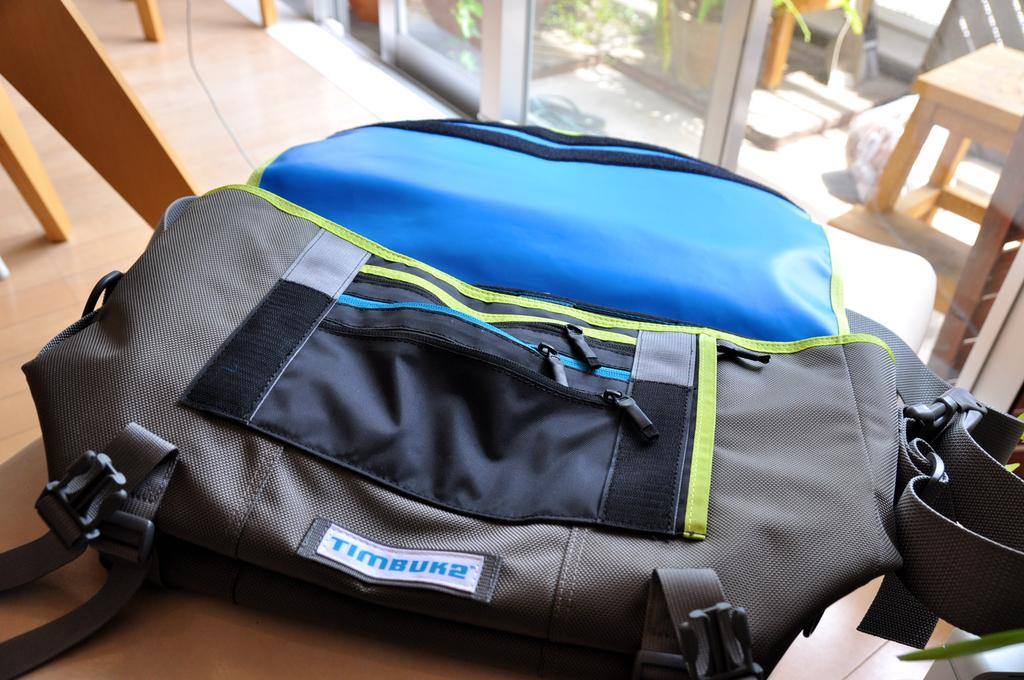Luggage-and-bags: (0, 128, 1023, 679)
